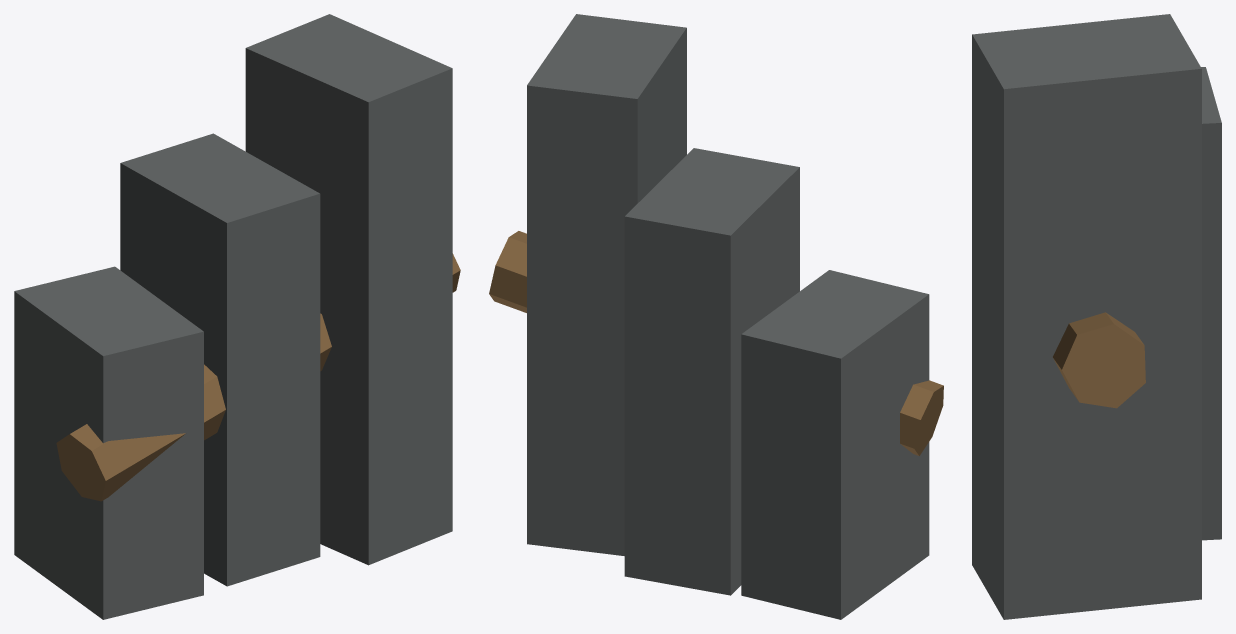
The model's file is map-boundaries-v5__iron_08.glb.
The picture shows the model from 3 angles, left to right: view 1: azimuth 30°, elevation 25°; view 2: azimuth 150°, elevation 25°; view 3: azimuth 270°, elevation 25°; orthographic projection. The views are drawn at different scales.
Visible parts, largest first — view 1: iron_08; view 2: iron_08; view 3: iron_08.
Boxes of the visible parts, x1=… form: iron_08: x1=14, y1=14, x2=460, y2=619; iron_08: x1=489, y1=14, x2=943, y2=619; iron_08: x1=972, y1=14, x2=1221, y2=619.
Size of the model in its own units: 1.46 by 1.58 by 0.6737.
